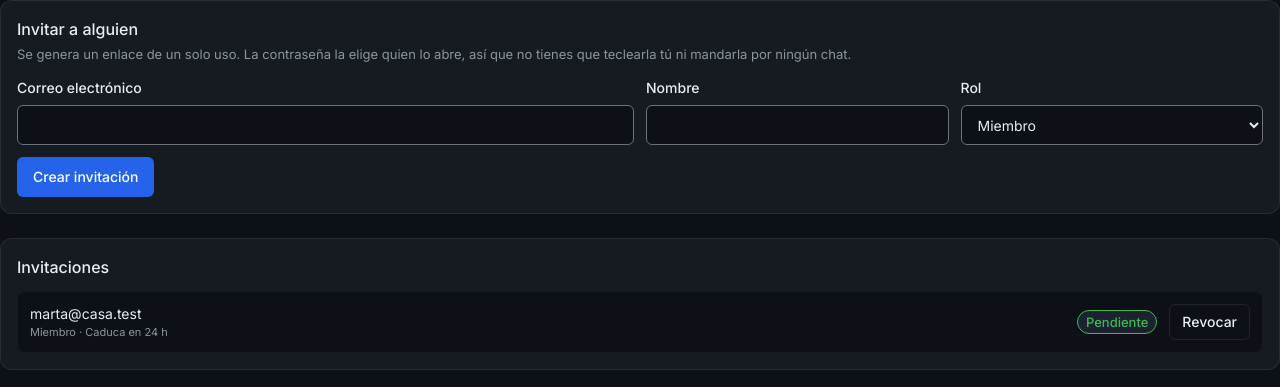
Scenario: InvitationsCard › cancelar la confirmación deja la invitación como estaba
The image size is (1280, 387).
Expected: the text "marta@casa.test" is shown, [30,305,142,322]
Step 1. Click the button "Revocar" → [1210, 322], box [1169,304,1250,340]
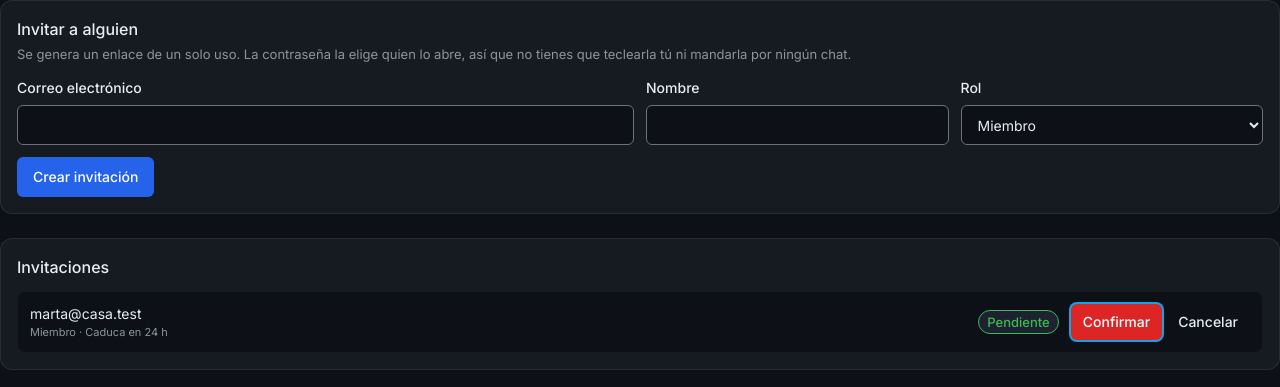
Step 2. Click the button "Cancelar" → [1208, 322], box [1166,304,1250,340]
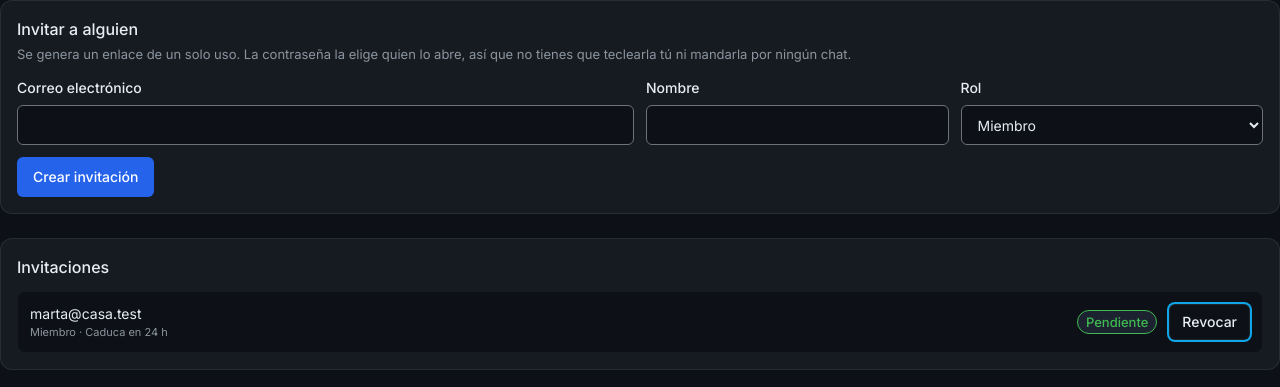
Result: the button "Revocar" is shown at [1169,304,1250,340]
